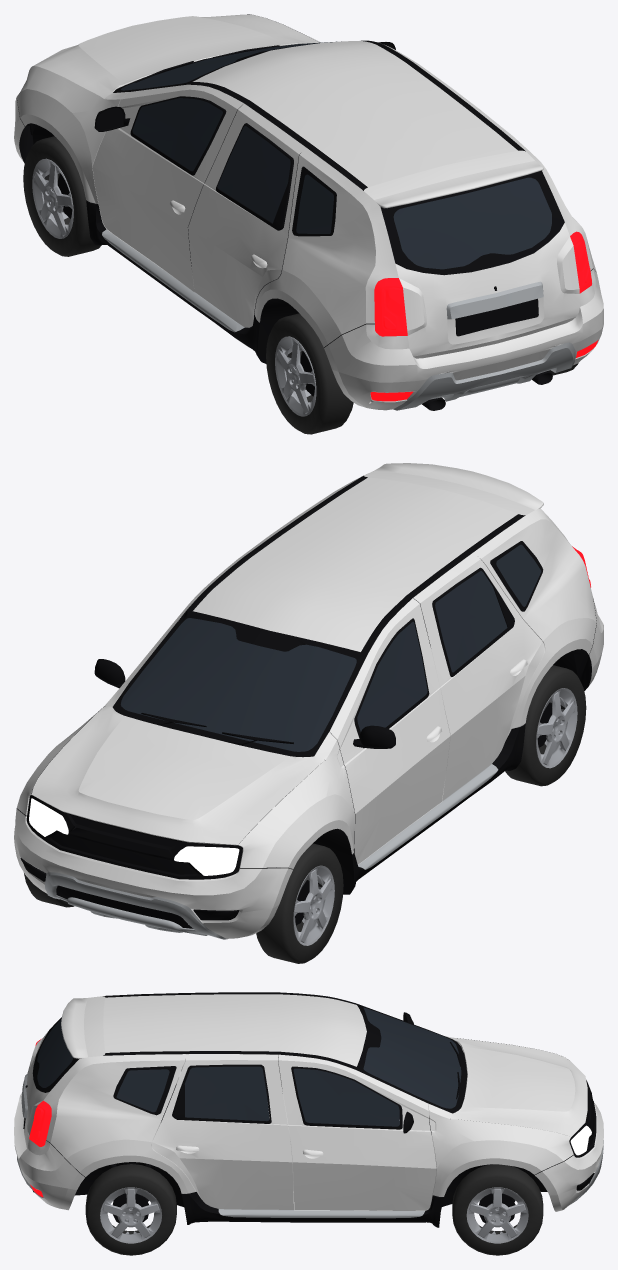
Rendered from suv_ev.glb.
3 renders of one model, top to bottom at view 1: azimuth 30°, elevation 25°; view 2: azimuth 150°, elevation 25°; view 3: azimuth 270°, elevation 25°, orthographic. The views are drawn at different scales.
Visible parts, largest first — view 1: Body, Glass, Hood, Wheel_RL, Wheel_FL, Lamp_R, Bumper_R, Mirror_L; view 2: Body, Glass, Hood, Bumper_F, Wheel_FL, Wheel_RL, Lamp_F, Mirror_L; view 3: Body, Glass, Hood, Wheel_FR, Wheel_RR, Bumper_F, Lamp_R, Lamp_F.
Part boxes in pixels (bbox=[...]): Body: bbox=[14, 14, 603, 403]; Glass: bbox=[121, 41, 551, 269]; Hood: bbox=[26, 14, 319, 112]; Wheel_RL: bbox=[266, 313, 353, 434]; Wheel_FL: bbox=[23, 136, 101, 256]; Lamp_R: bbox=[370, 231, 598, 401]; Bumper_R: bbox=[343, 351, 591, 410]; Mirror_L: bbox=[94, 106, 130, 131]; Body: bbox=[15, 463, 603, 925]; Glass: bbox=[120, 544, 541, 751]; Hood: bbox=[26, 708, 329, 848]; Bumper_F: bbox=[14, 820, 281, 939]; Wheel_FL: bbox=[256, 843, 343, 963]; Wheel_RL: bbox=[505, 665, 586, 786]; Lamp_F: bbox=[29, 798, 239, 875]; Mirror_L: bbox=[353, 725, 395, 748]; Body: bbox=[14, 992, 595, 1227]; Glass: bbox=[37, 1007, 461, 1126]; Hood: bbox=[453, 1038, 587, 1148]; Wheel_FR: bbox=[452, 1164, 543, 1255]; Wheel_RR: bbox=[85, 1164, 176, 1255]; Bumper_F: bbox=[549, 1101, 603, 1211]; Lamp_R: bbox=[29, 1039, 51, 1197]; Lamp_F: bbox=[570, 1086, 591, 1155].
Size of the model in its own units: 2.02 by 1.61 by 4.55.
